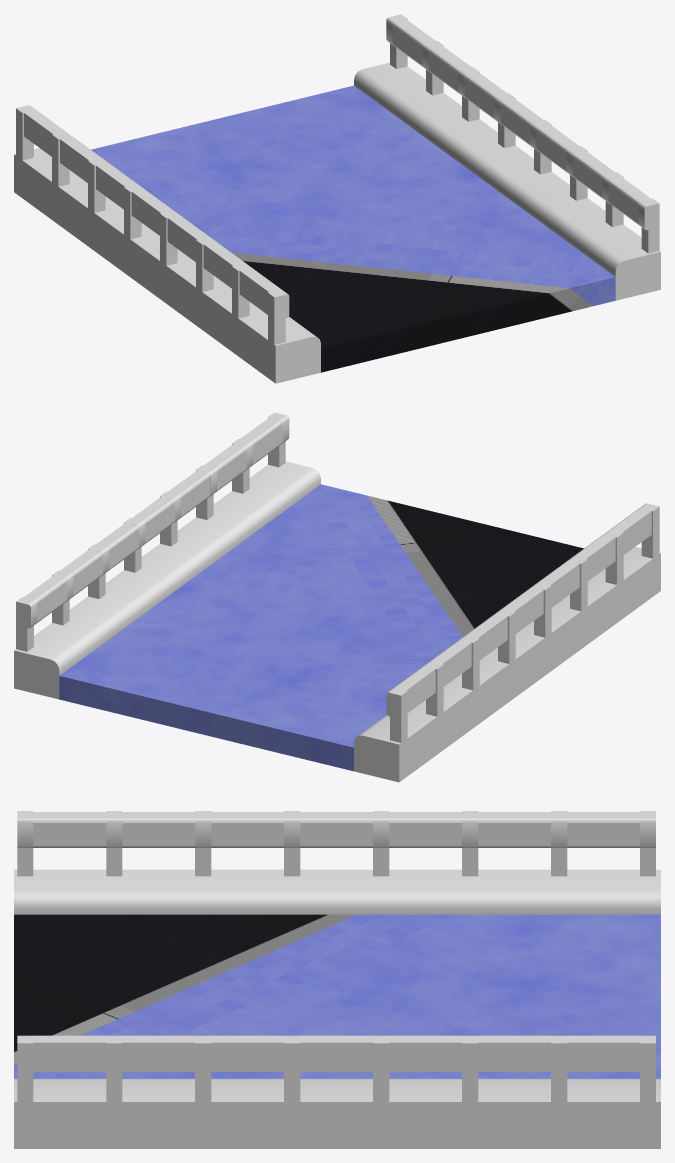
Rendered from BridgeTextured.fbx.
The picture shows the model from 3 angles, top to bottom: view 1: azimuth 30°, elevation 25°; view 2: azimuth 150°, elevation 25°; view 3: azimuth 270°, elevation 25°; orthographic projection. The views are drawn at different scales.
Visible parts, largest first — view 1: Cube.004; view 2: Cube.004; view 3: Cube.004.
Boxes of the visible parts, box(x1,y1,x2,y2) form: Cube.004: box(14, 14, 660, 383); Cube.004: box(14, 412, 660, 782); Cube.004: box(14, 811, 660, 1148).
Size of the model in its own units: 850 by 180 by 1000.
